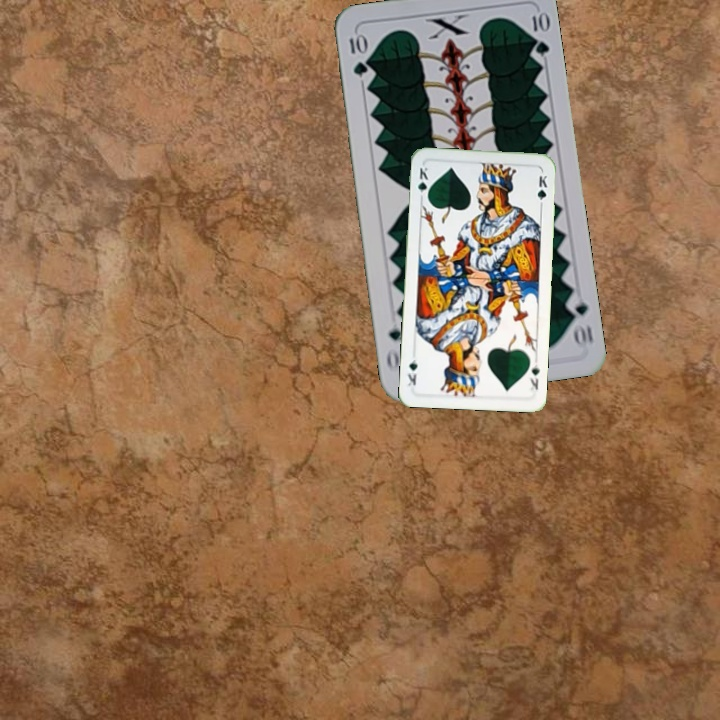G10: (563, 290, 596, 350), (345, 29, 370, 79)
GK: (414, 163, 431, 203), (525, 360, 542, 393)
